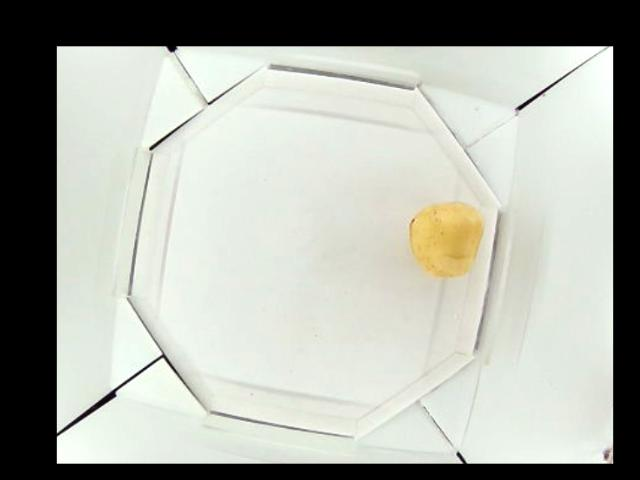Potato: (408, 202, 479, 274)
